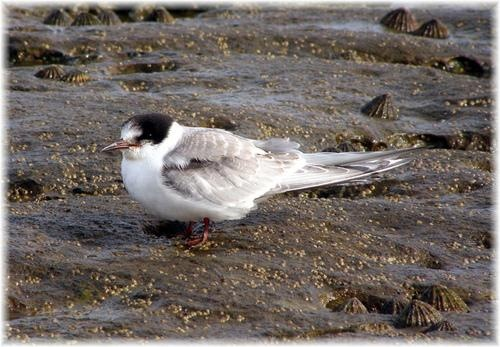bird: (97, 107, 424, 243)
